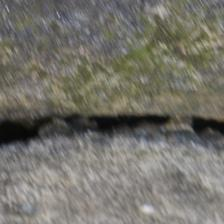Crack: (3, 52, 219, 101)
